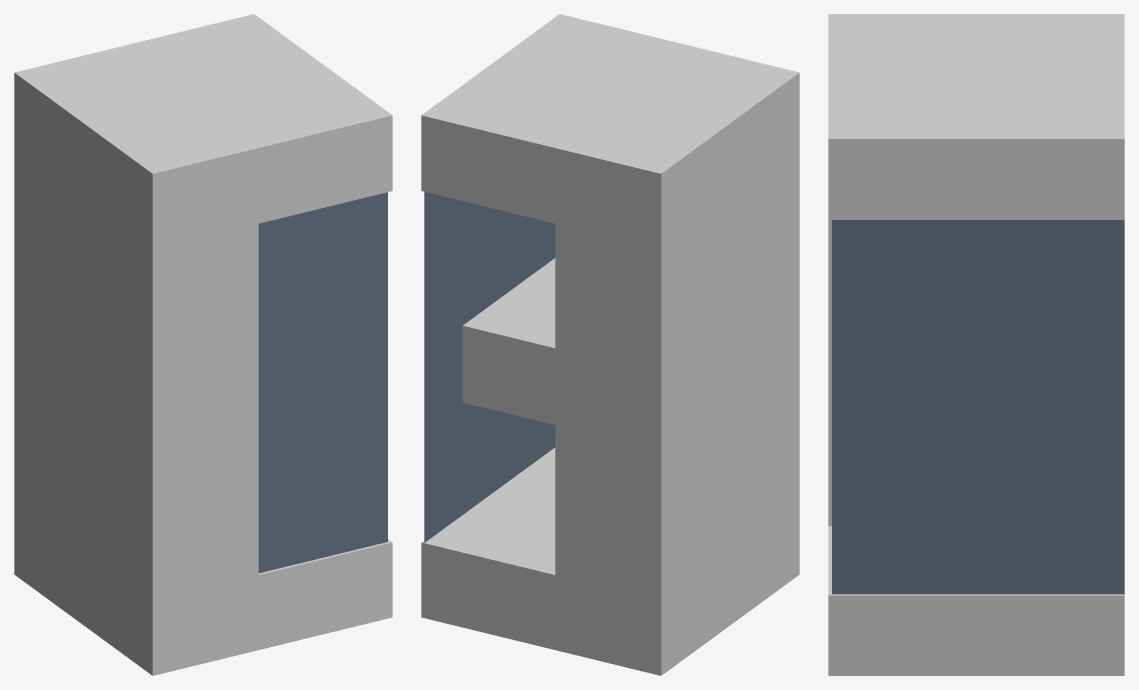
The picture shows the model from 3 angles, left to right: view 1: azimuth 30°, elevation 25°; view 2: azimuth 150°, elevation 25°; view 3: azimuth 270°, elevation 25°; orthographic projection. The views are drawn at different scales.
Visible parts, largest first — view 1: group_2, instance_1, instance_0; view 2: group_2, instance_5, group_3, instance_4, instance_3, instance_2; view 3: group_2, instance_5, instance_2, instance_3, instance_4.
Part boxes in pixels (bbox=[...]): group_2: bbox=[14, 14, 392, 675]; instance_1: bbox=[322, 192, 387, 557]; instance_0: bbox=[258, 208, 322, 573]; group_2: bbox=[421, 14, 799, 675]; instance_5: bbox=[424, 192, 458, 542]; group_3: bbox=[462, 258, 555, 424]; instance_4: bbox=[458, 200, 492, 517]; instance_3: bbox=[492, 208, 526, 492]; instance_2: bbox=[527, 217, 555, 467]; group_2: bbox=[828, 14, 1124, 675]; instance_5: bbox=[1051, 220, 1124, 594]; instance_2: bbox=[832, 220, 905, 594]; instance_3: bbox=[905, 220, 978, 594]; instance_4: bbox=[978, 220, 1051, 594].
Bounding box in the file's own units: 8 × 16 × 8.
